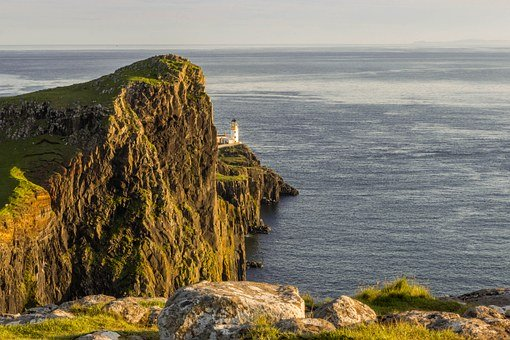mountain: (1, 57, 286, 281)
sea: (235, 16, 505, 288)
